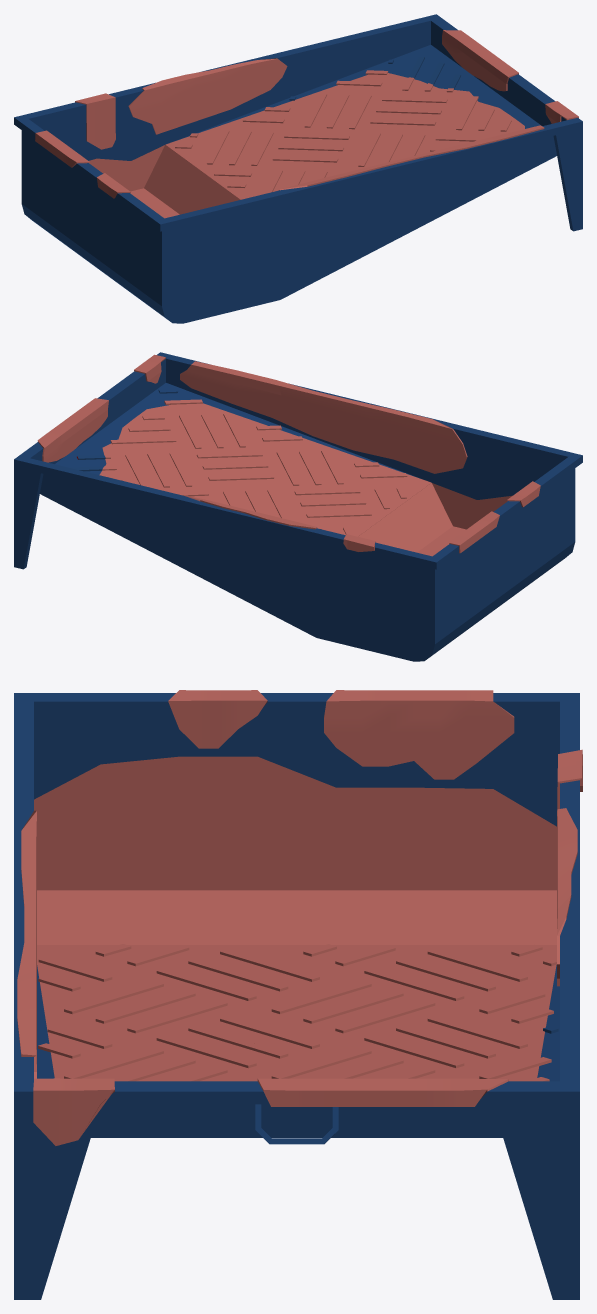
Rendered from SM_Roller_Bucket_Empty.glb.
The picture shows the model from 3 angles, top to bottom: view 1: azimuth 30°, elevation 25°; view 2: azimuth 150°, elevation 25°; view 3: azimuth 270°, elevation 25°; orthographic projection. The views are drawn at different scales.
Parts seen in each view (by area): view 1: SM_Roller_Bucket_Empty; view 2: SM_Roller_Bucket_Empty; view 3: SM_Roller_Bucket_Empty.
Boxes of the visible parts, x1,y1,x2,y2 form: SM_Roller_Bucket_Empty: [14, 14, 582, 323]; SM_Roller_Bucket_Empty: [14, 352, 582, 661]; SM_Roller_Bucket_Empty: [14, 690, 582, 1299].
Size of the model in its own units: 0.7445 by 0.1798 by 0.4396.
Materials: 2 (1 with a texture image).
